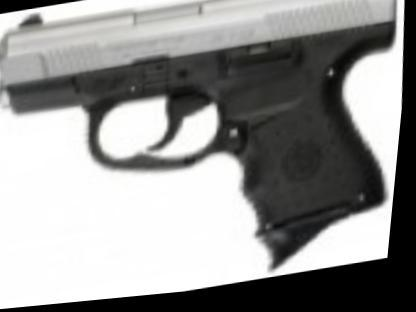pistol: (0, 0, 415, 310)
